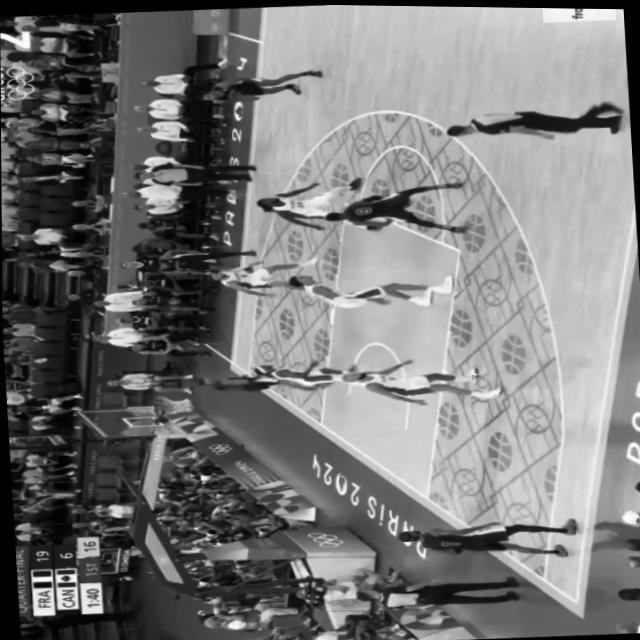ball_handler: (324, 184, 464, 237)
